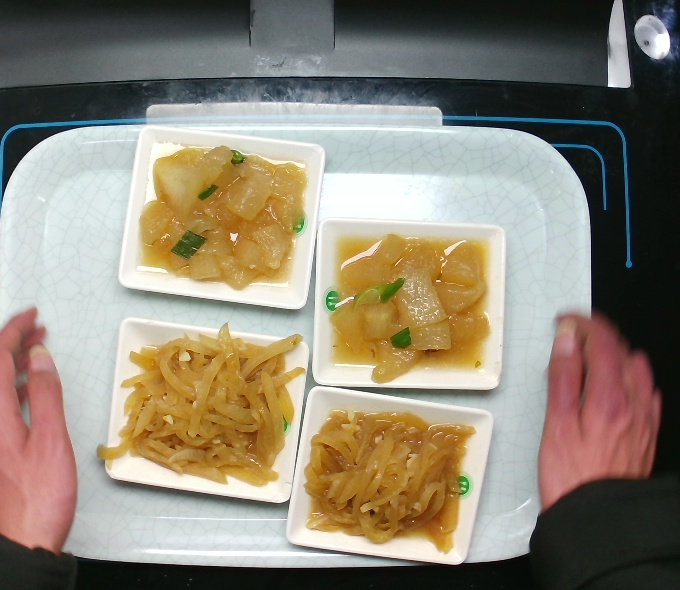wcq-DongGua: (122, 138, 310, 302), (320, 220, 508, 384)
wcq-LuoBoSi: (90, 323, 318, 491), (300, 402, 477, 561)
